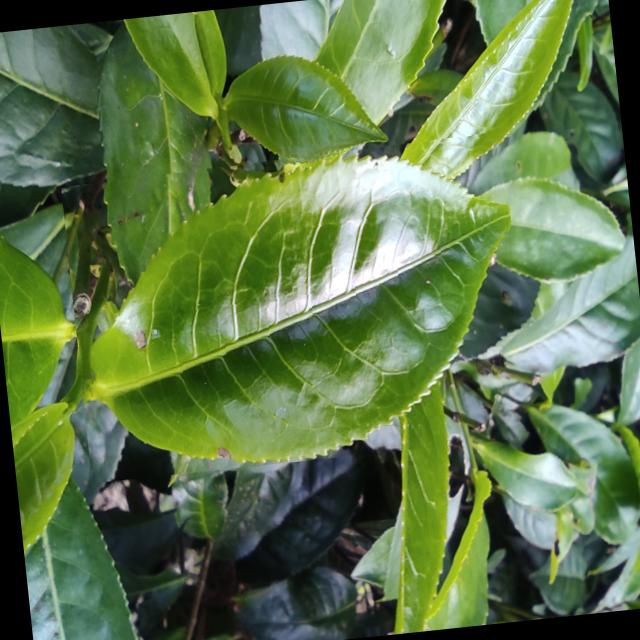Category B(2-4 days): (58, 131, 530, 483)
